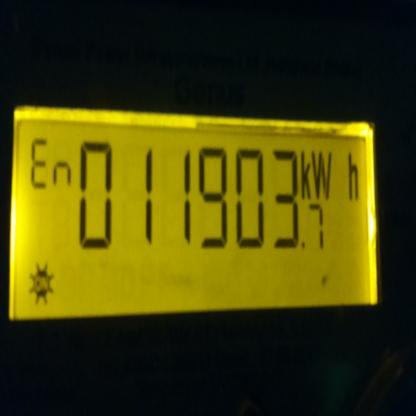.: (298, 147, 362, 200)
0: (299, 237, 308, 253)
1: (74, 139, 116, 251), (232, 146, 268, 252)
2: (134, 144, 161, 248), (174, 145, 199, 253)
4: (272, 143, 305, 253)
8: (307, 202, 333, 255)
:: (195, 146, 232, 249)
